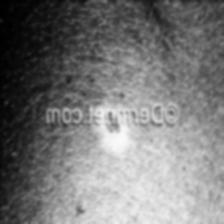Potentially Malignant Skin Tumors: (84, 121, 123, 149)
